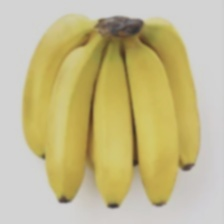banana: (30, 19, 198, 183)
